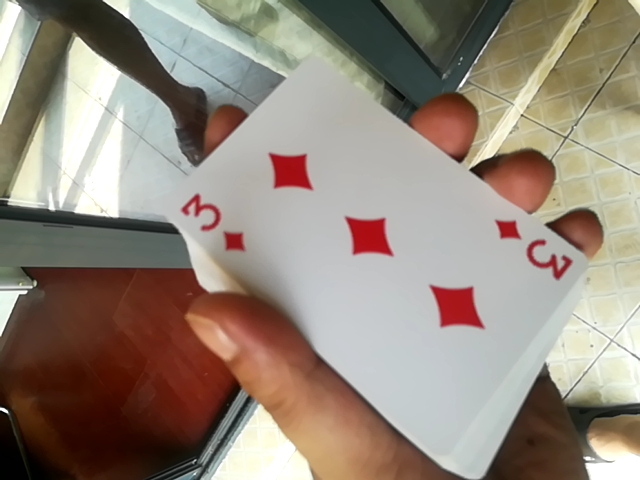fk 3: (86, 28, 581, 475)
